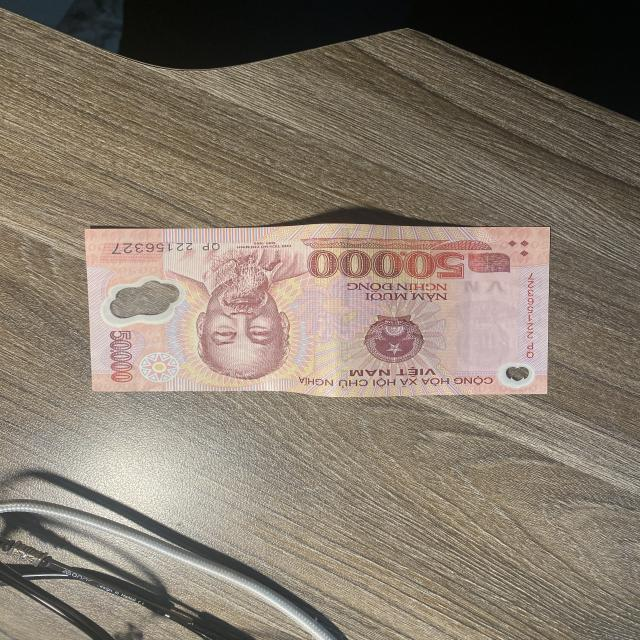50 000 VND: (85, 221, 553, 399)
